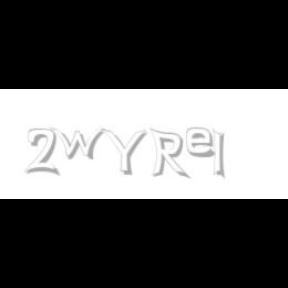2: (24, 128, 58, 176)
I: (212, 128, 225, 180)
R: (149, 128, 187, 180)
Y: (101, 128, 147, 176)
e: (187, 128, 220, 158)
w: (51, 128, 110, 160)
